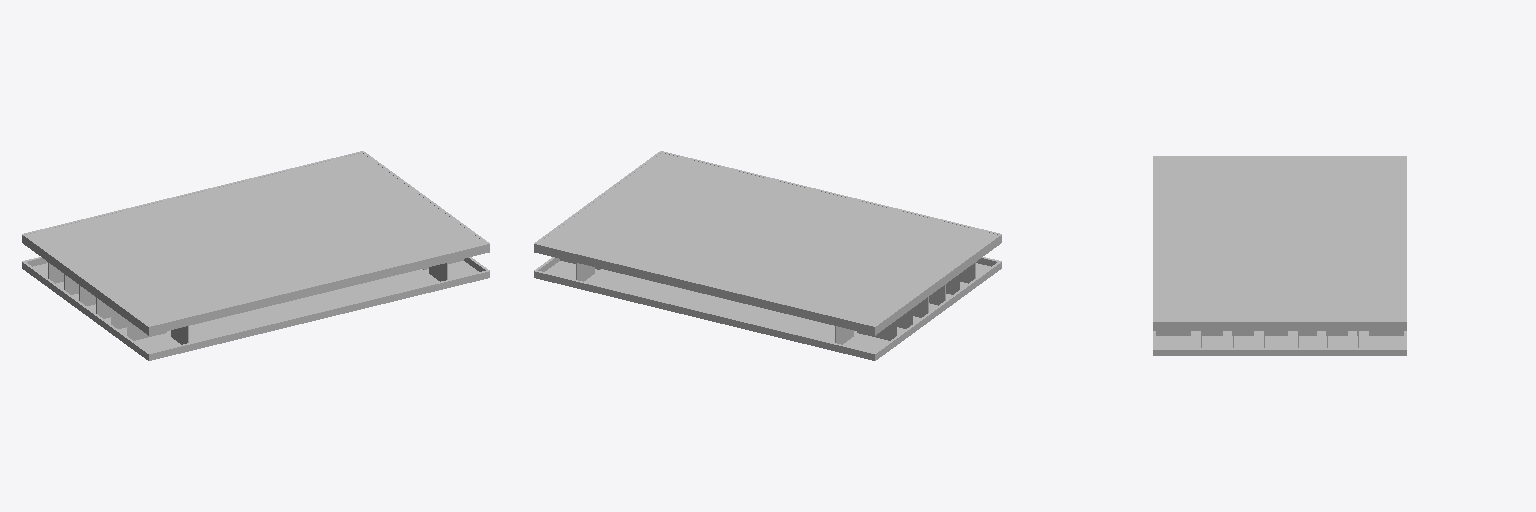
Rendered from Envelope_ForStrip_WWRBaseline_9ft.obj.
3 renders of one model, left to right at view 1: azimuth 30°, elevation 25°; view 2: azimuth 150°, elevation 25°; view 3: azimuth 270°, elevation 25°, orthographic.
Parts seen in each view (by area): view 1: Envelope_ForStrip_WWRBaseline_9ft.obj; view 2: Envelope_ForStrip_WWRBaseline_9ft.obj; view 3: Envelope_ForStrip_WWRBaseline_9ft.obj.
Part boxes in pixels (bbox=[...]): Envelope_ForStrip_WWRBaseline_9ft.obj: bbox=[22, 151, 489, 360]; Envelope_ForStrip_WWRBaseline_9ft.obj: bbox=[534, 151, 1001, 360]; Envelope_ForStrip_WWRBaseline_9ft.obj: bbox=[1153, 156, 1406, 355].
Bounding box in the file's own units: 38.72 × 3.69 × 24.94.